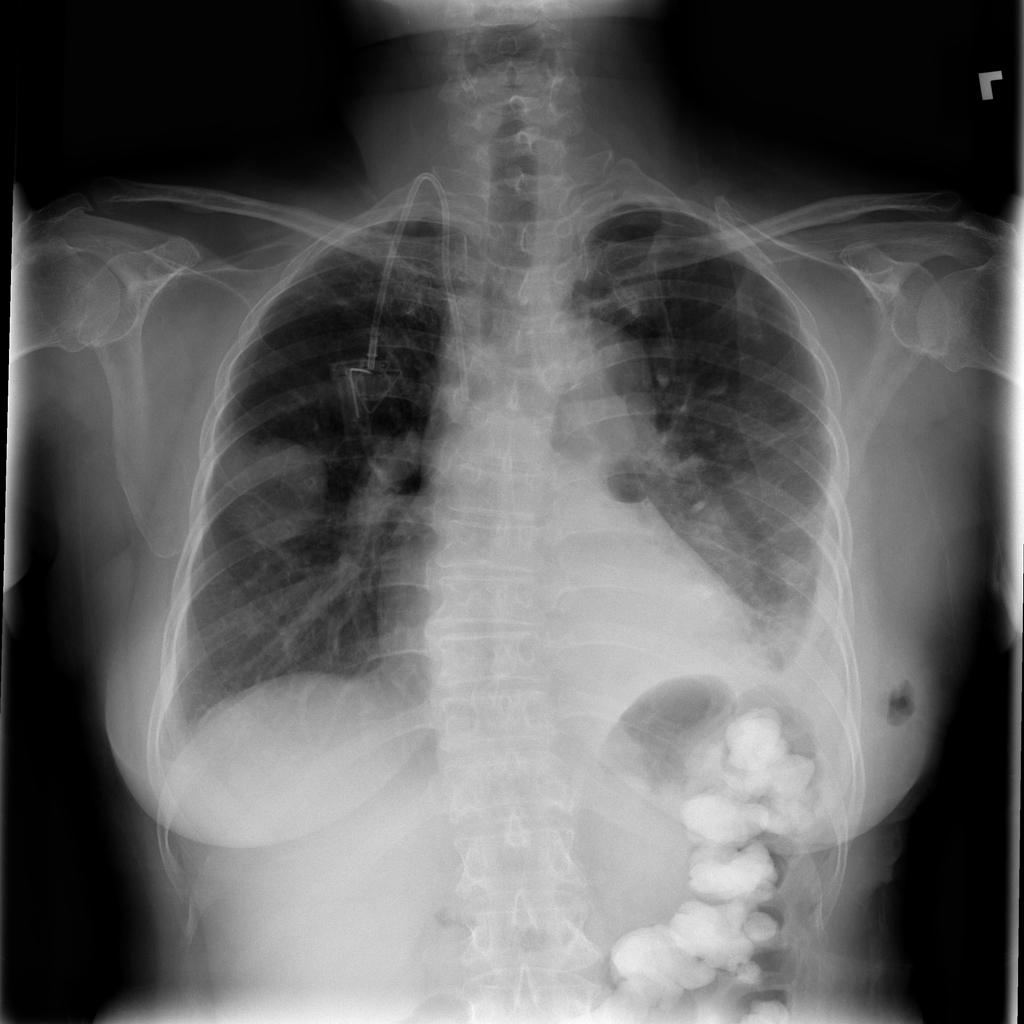nodule: (207, 417, 348, 552)
